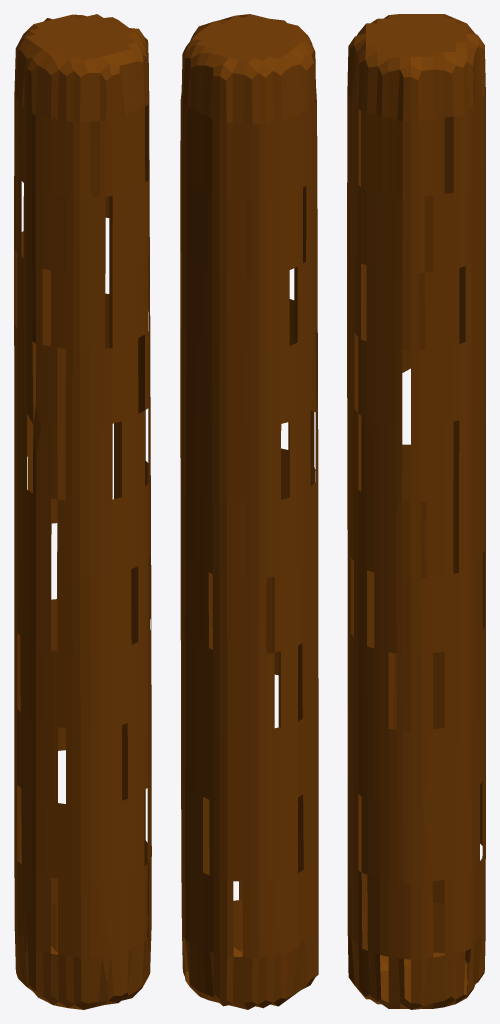
The model's file is fuente.fbx.
3 views of the same model, side by side, from view 1: azimuth 30°, elevation 25°; view 2: azimuth 150°, elevation 25°; view 3: azimuth 270°, elevation 25° (orthographic).
Parts seen in each view (by area): view 1: Cylinder.004; view 2: Cylinder.004; view 3: Cylinder.004.
Part boxes in pixels (x1,y1,x2,y2): Cylinder.004: [14, 14, 151, 1009]; Cylinder.004: [180, 14, 318, 1009]; Cylinder.004: [347, 14, 485, 1009].
Size of the model in its own units: 54.74 by 418 by 55.25.
